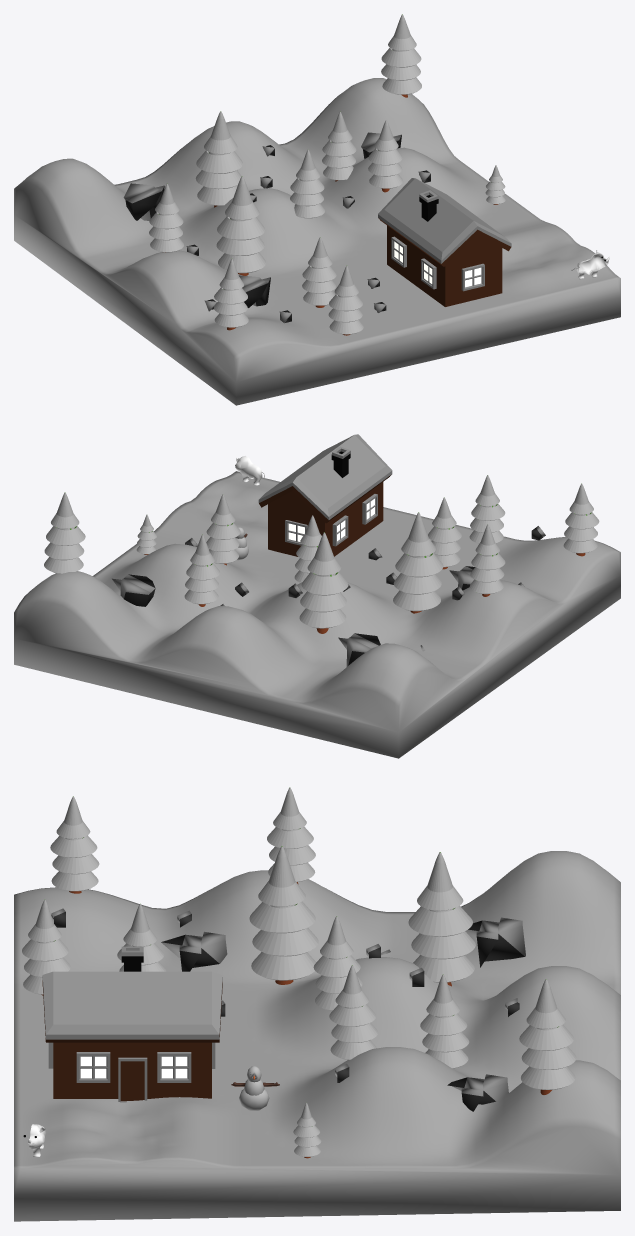
The model's file is 3D_House.gltf.
The picture shows the model from 3 angles, top to bottom: view 1: azimuth 30°, elevation 25°; view 2: azimuth 150°, elevation 25°; view 3: azimuth 270°, elevation 25°; orthographic projection. The views are drawn at different scales.
Visible parts, largest first — view 1: Arbre.005; view 2: Arbre.005; view 3: Arbre.005.
Boxes of the visible parts, left/top/right/bottom form: Arbre.005: left=14, top=14, right=620, bottom=405; Arbre.005: left=14, top=434, right=620, bottom=758; Arbre.005: left=14, top=787, right=620, bottom=1221.
Size of what is drawn, in the model's own units: 10.14 by 4.18 by 10.14.
